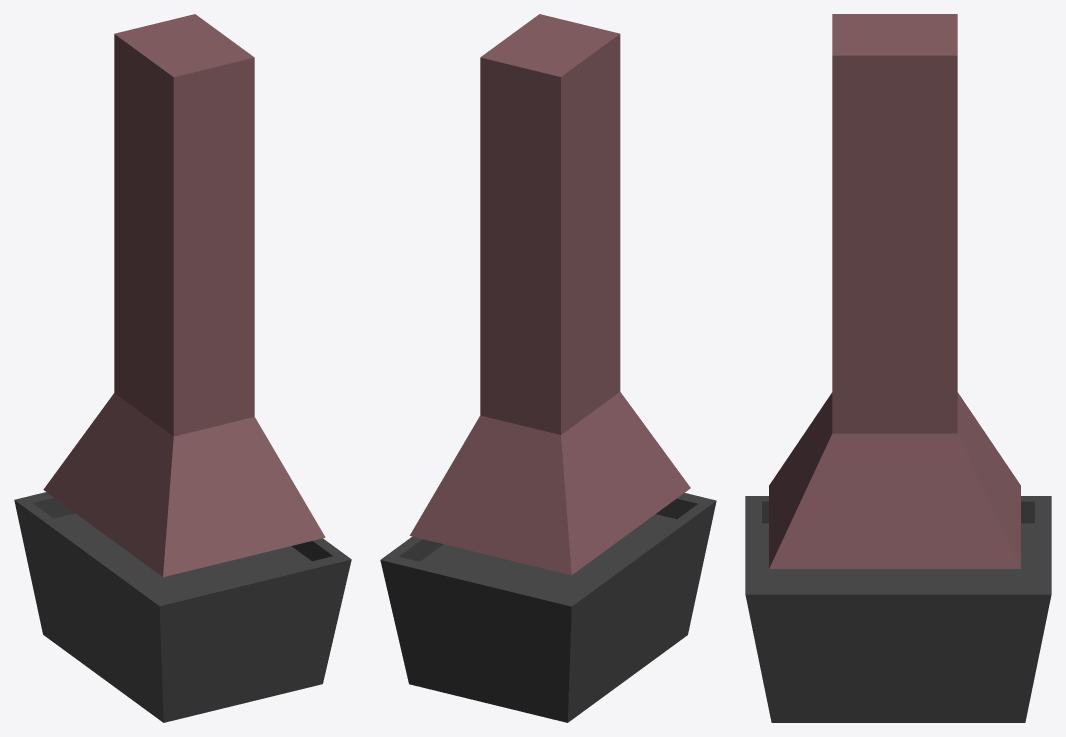
File: Grinder.fbx
3 views of the same model, side by side, from view 1: azimuth 30°, elevation 25°; view 2: azimuth 150°, elevation 25°; view 3: azimuth 270°, elevation 25° (orthographic). The views are drawn at different scales.
Visible parts, largest first — view 1: Cube.001, Cube; view 2: Cube.001, Cube; view 3: Cube.001, Cube.
Boxes of the visible parts, x1,y1,x2,y2 form: Cube.001: [43, 14, 325, 577]; Cube: [14, 492, 351, 722]; Cube.001: [409, 14, 690, 575]; Cube: [380, 493, 716, 722]; Cube.001: [769, 14, 1020, 568]; Cube: [745, 496, 1051, 722].
Size of the model in its own units: 191 by 583 by 250.
